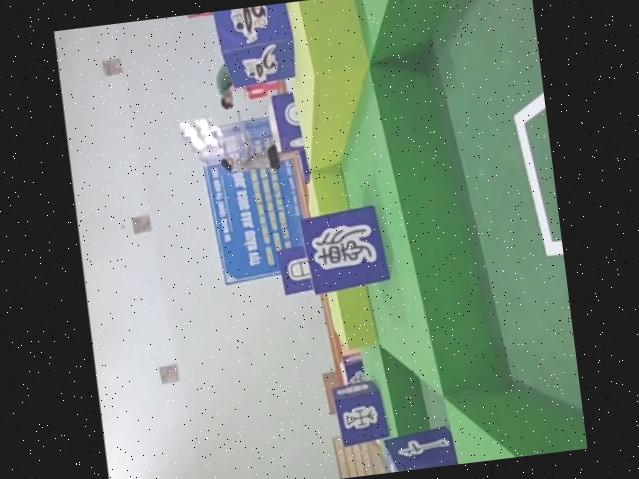R1 Blue: (211, 2, 299, 86)
R2 Fake Blue: (299, 203, 393, 296), (275, 246, 314, 298), (339, 351, 368, 387)
R2 Real Blue: (331, 382, 390, 450), (383, 426, 467, 473), (268, 94, 303, 158)
